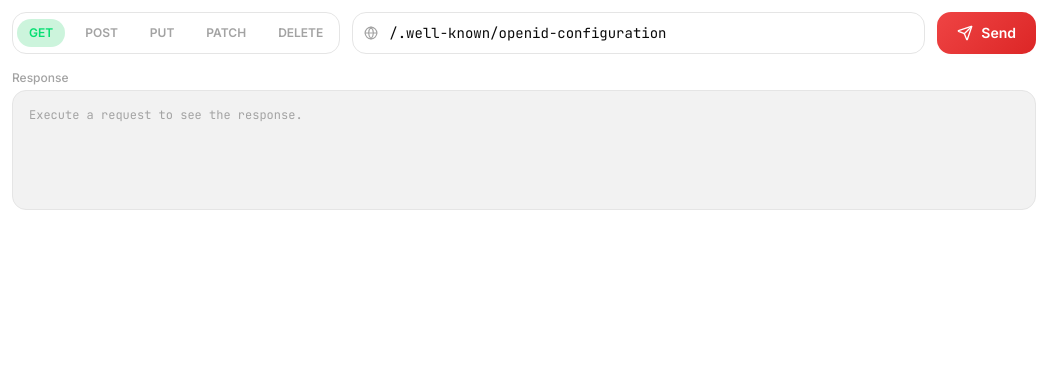
Test: GenericRequestFlow › sends PUT
This screenshot has width=1048, height=379.
Click the button "PUT" at (162, 33), box 138,19 -> 186,47
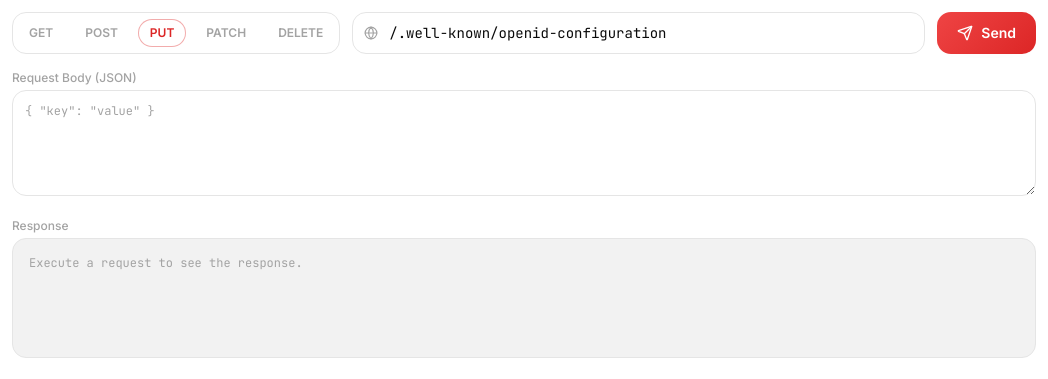
Click the button "Send" at (987, 33), box 937,12 -> 1036,54
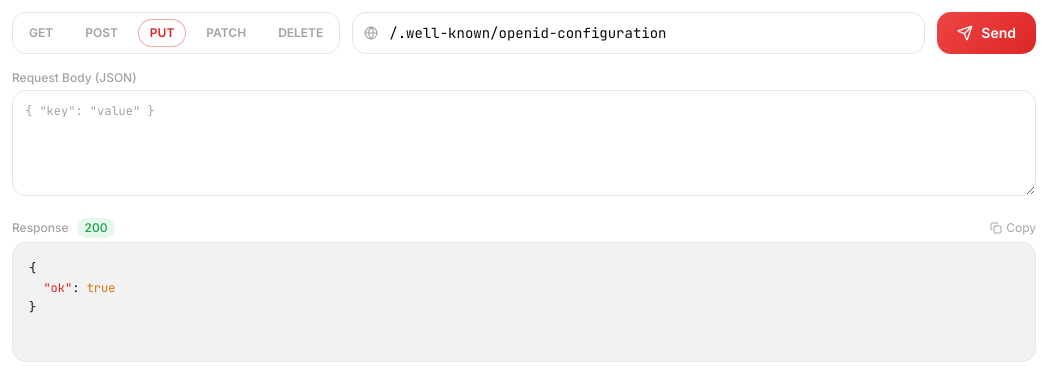
Now the text "200" is shown, box 76,218 -> 115,238
